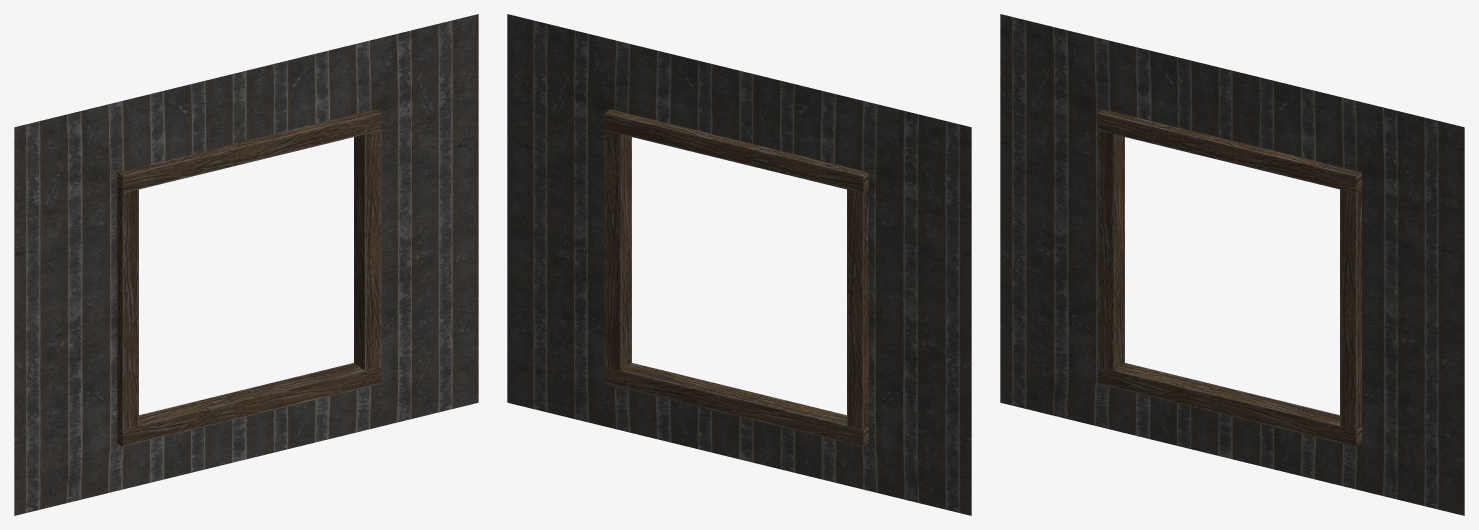
Rendered from square_window.fbx.
The picture shows the model from 3 angles, left to right: view 1: azimuth 30°, elevation 25°; view 2: azimuth 150°, elevation 25°; view 3: azimuth 330°, elevation 25°; orthographic projection.
Visible parts, largest first — view 1: square_window; view 2: square_window; view 3: square_window.
Boxes of the visible parts, x1,y1,x2,y2 form: square_window: [14, 14, 478, 515]; square_window: [507, 14, 971, 515]; square_window: [1000, 14, 1464, 515].
Bounding box in the file's own units: 500 × 400 × 20.34.
